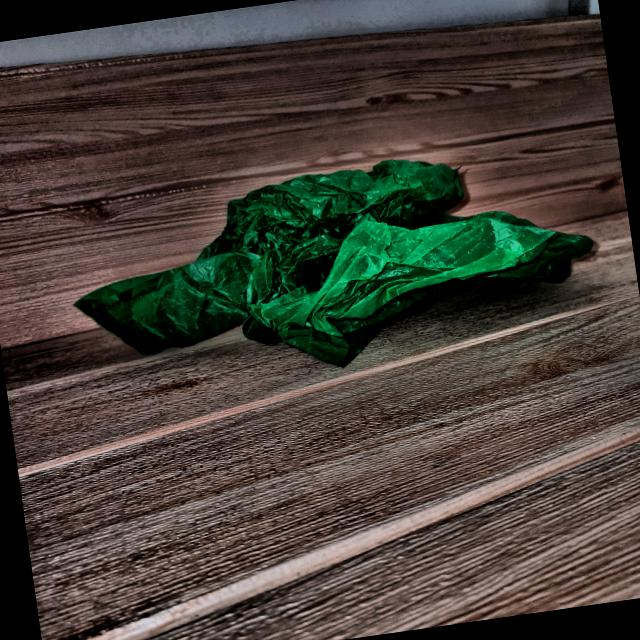plastic bag: (58, 128, 607, 402)
